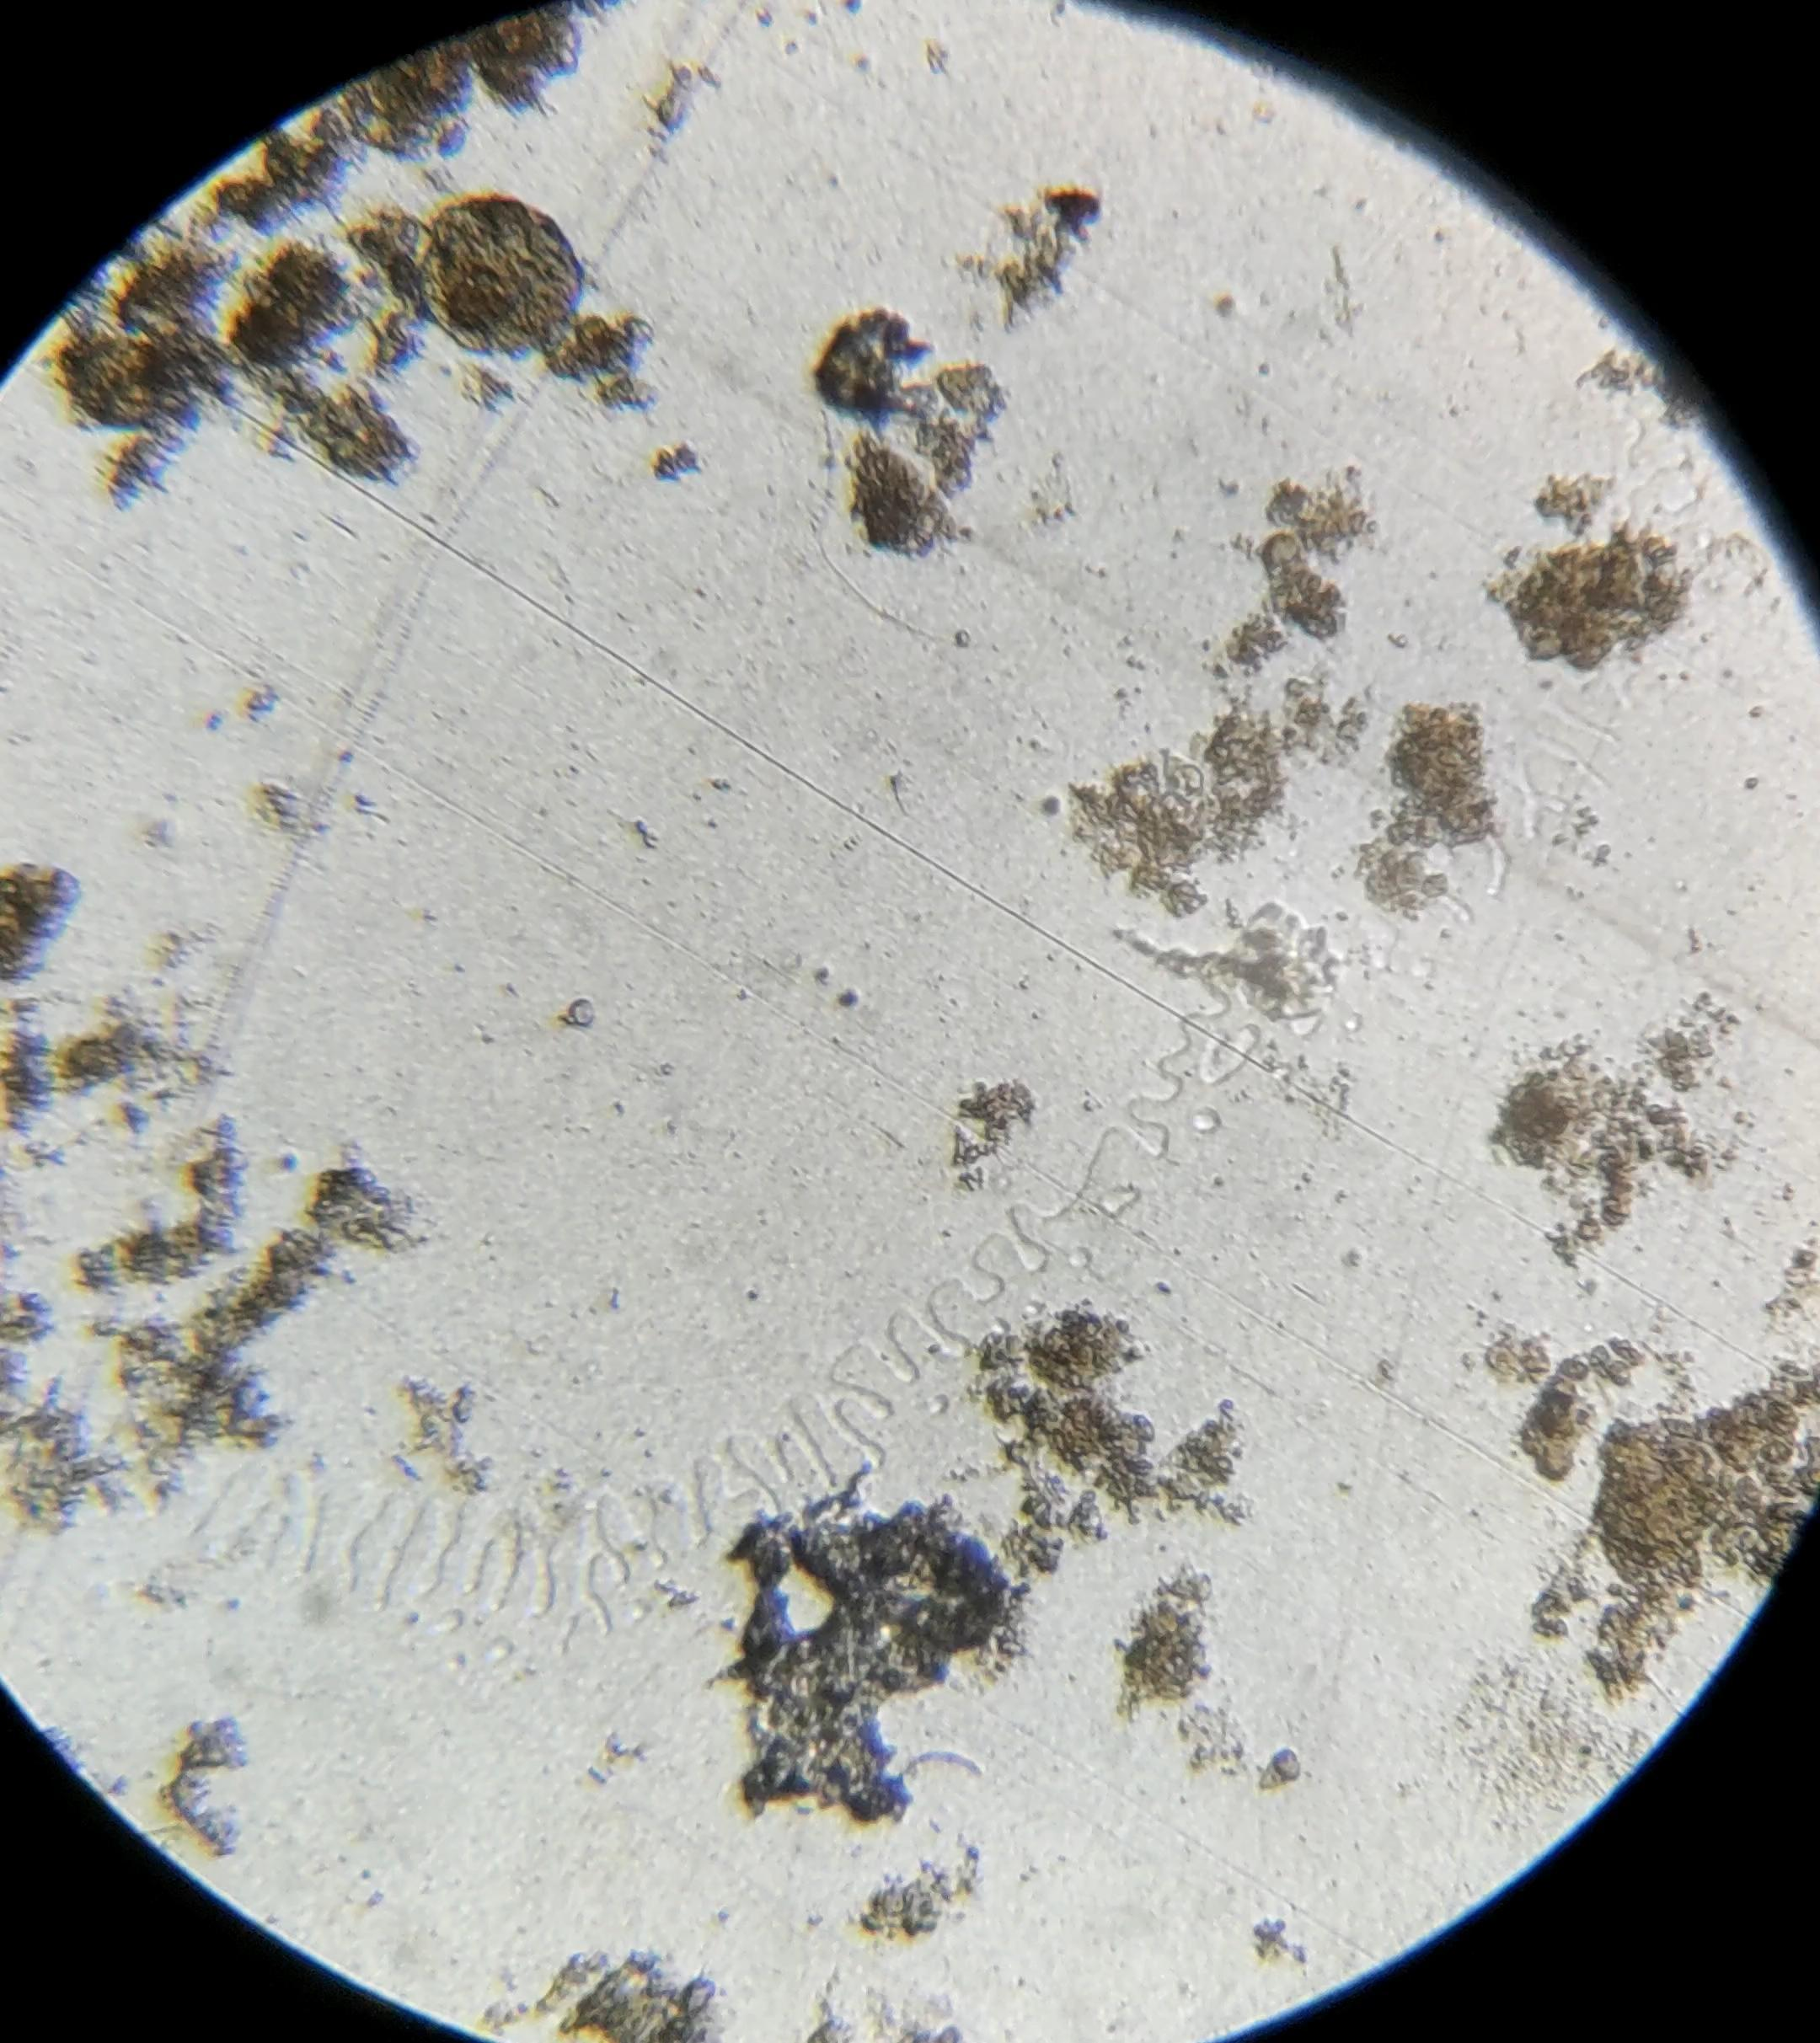Arcella: (420, 199, 580, 351)
